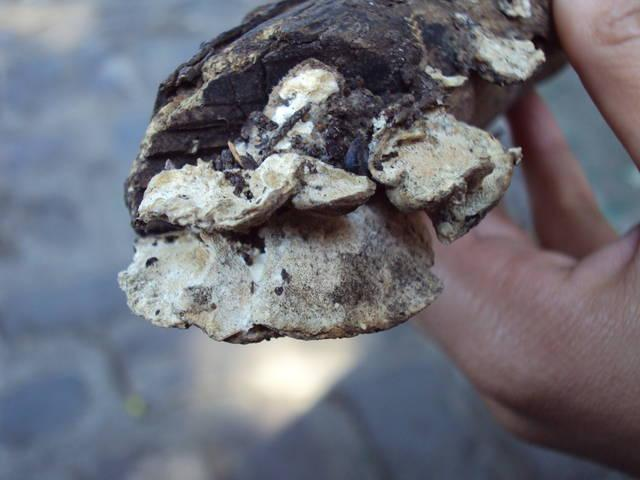Non-edible Mushroom: (116, 0, 558, 345)
